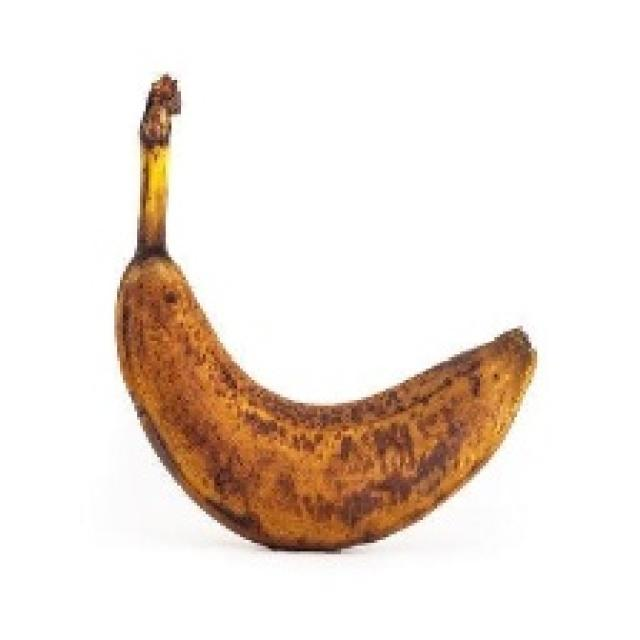Banana: (112, 71, 537, 552)
